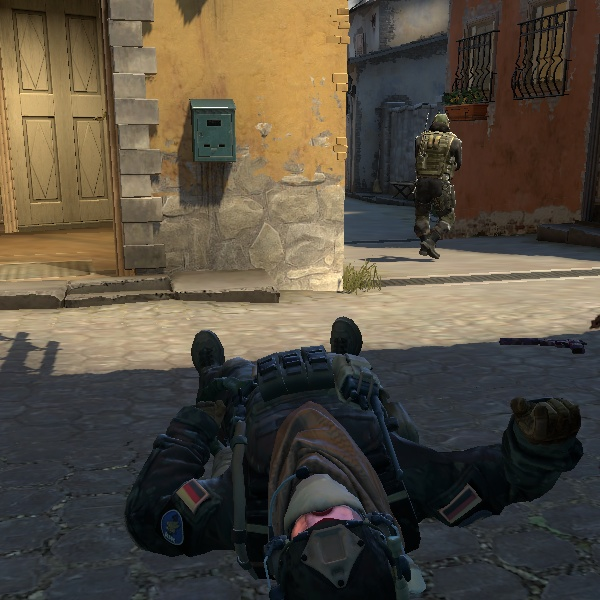ct_body: (407, 109, 470, 250)
ct_head: (426, 112, 452, 139)
